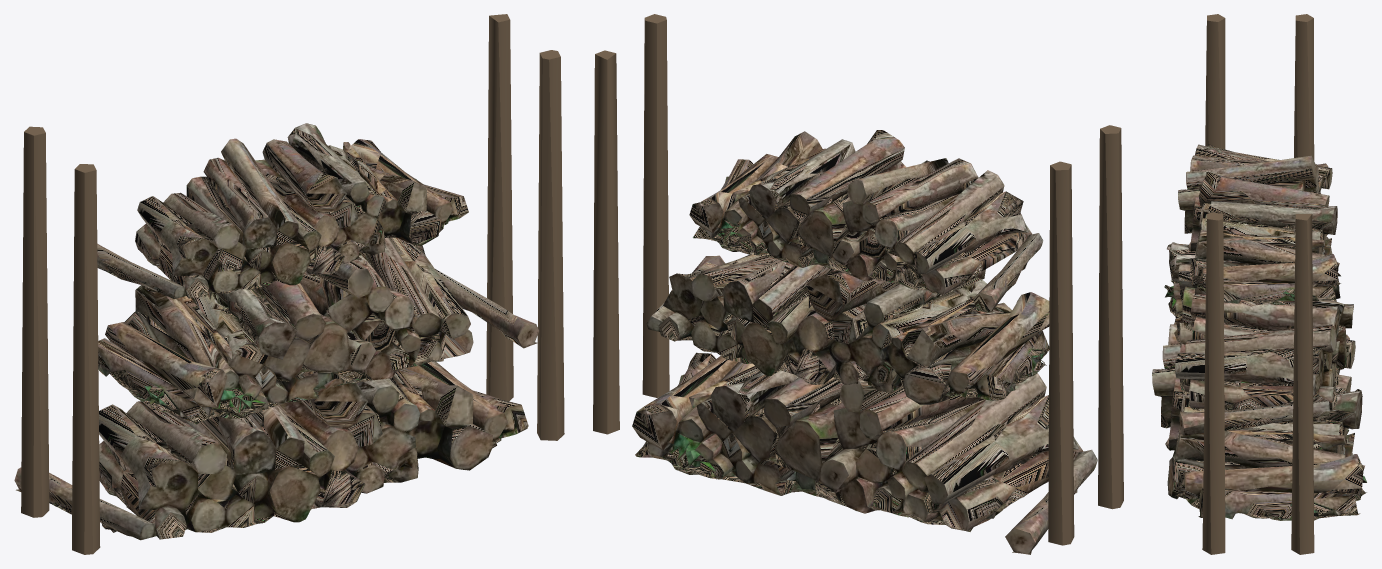
File: log_stack_tall.glb
The picture shows the model from 3 angles, left to right: view 1: azimuth 30°, elevation 25°; view 2: azimuth 150°, elevation 25°; view 3: azimuth 270°, elevation 25°; orthographic projection. The views are drawn at different scales.
Parts seen in each view (by area): view 1: Log_Pile_Log_Pile_PBR_0, stake; view 2: Log_Pile_Log_Pile_PBR_0, stake; view 3: Log_Pile_Log_Pile_PBR_0, stake.
Part boxes in pixels (x1,y1,x2,y2): Log_Pile_Log_Pile_PBR_0: (14,123,538,540); stake: (21,14,564,554); Log_Pile_Log_Pile_PBR_0: (632,130,1097,554); stake: (593,14,1123,545); Log_Pile_Log_Pile_PBR_0: (1152,144,1366,520); stake: (1202,14,1314,554).
Bounding box in the file's own units: 3.89 × 2.9 × 1.7.
Materials: 2 (1 with a texture image).
